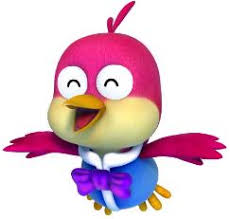Harry: (1, 1, 230, 217)
